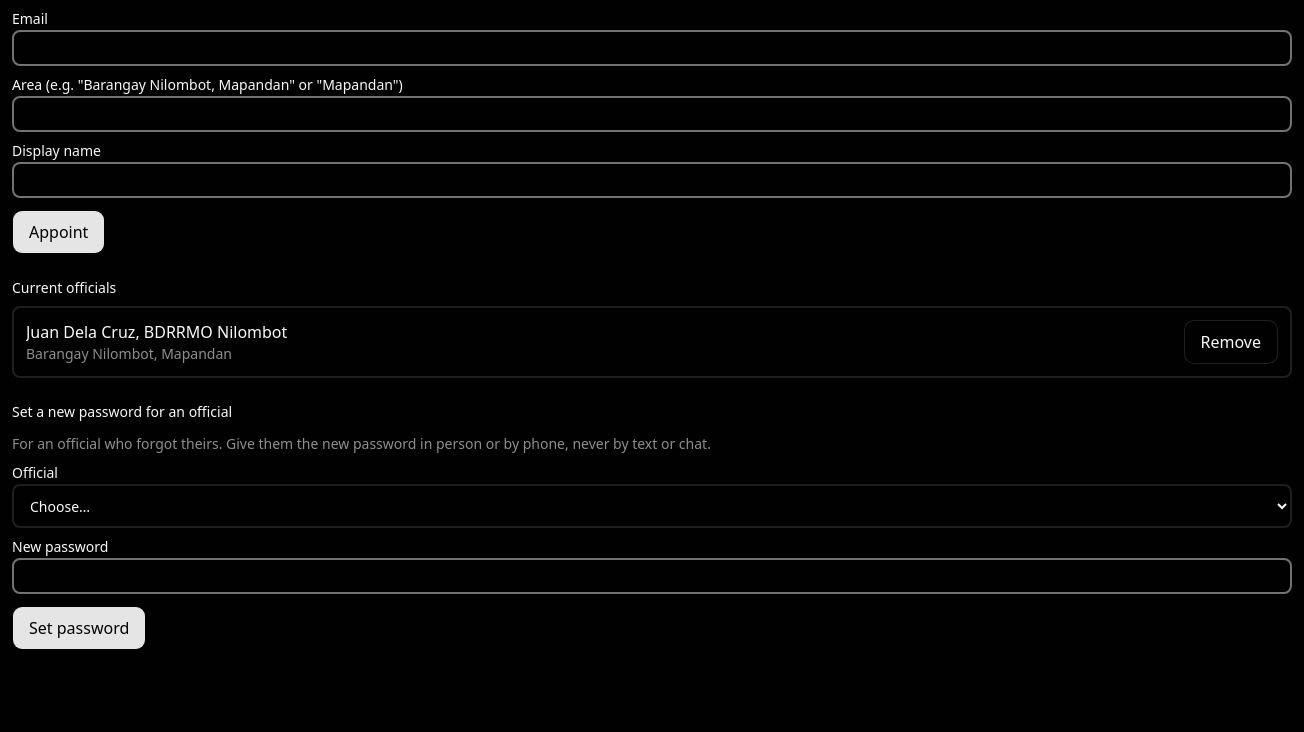
Scenario: OfficialsPanel › sets a new password for the chosen official, and says so
Select "Juan Dela Cruz, BDRRMO Nilombot — juan@example.com" in the dropdown labelled "Official": (652, 506) [12,484,1292,528]
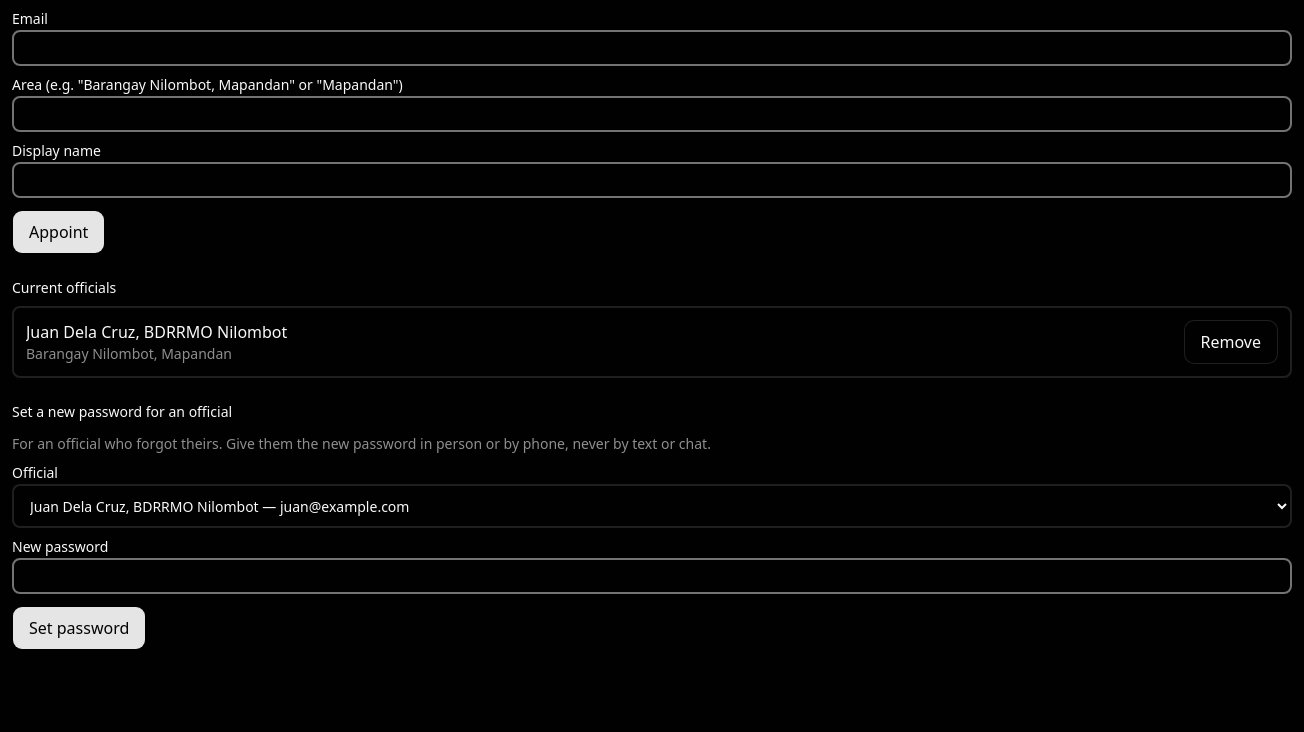
In the password field labelled "New password": (652, 576) [12,558,1292,594], type "newpass123"
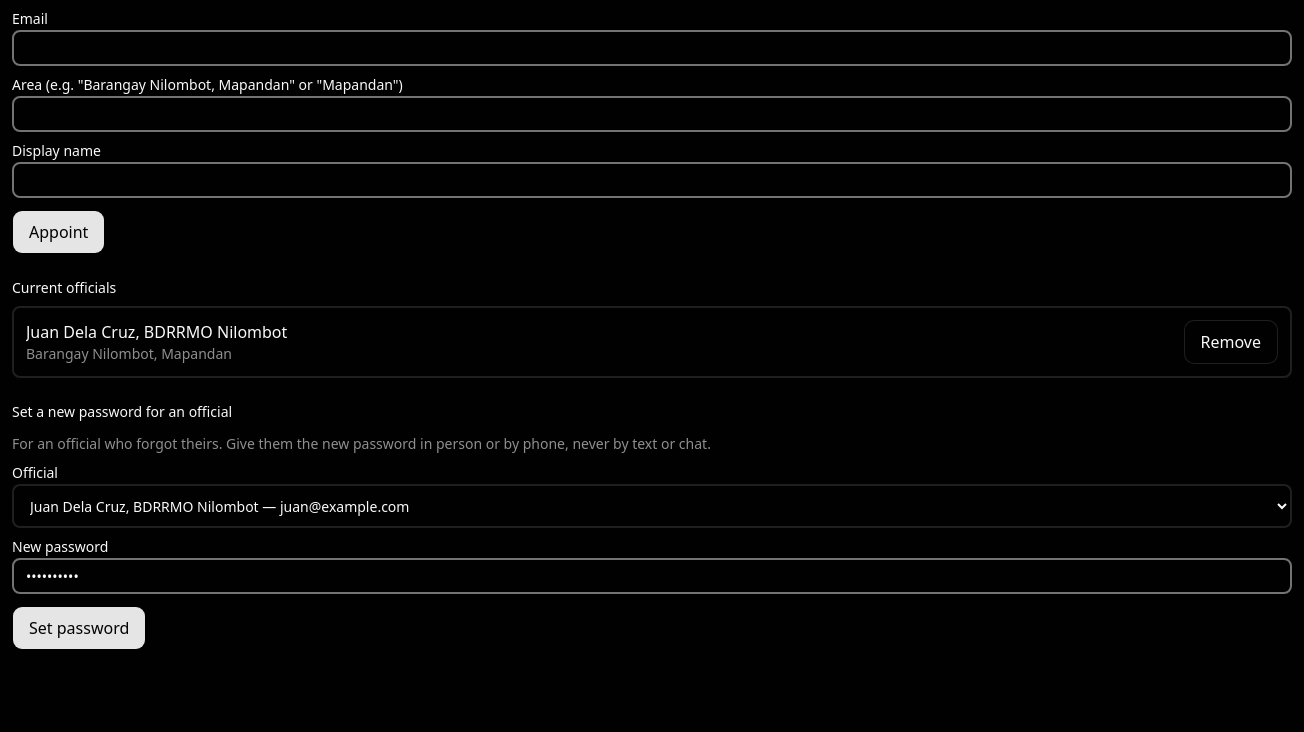
Click the button "Set password": click(79, 628) [12,606,146,650]
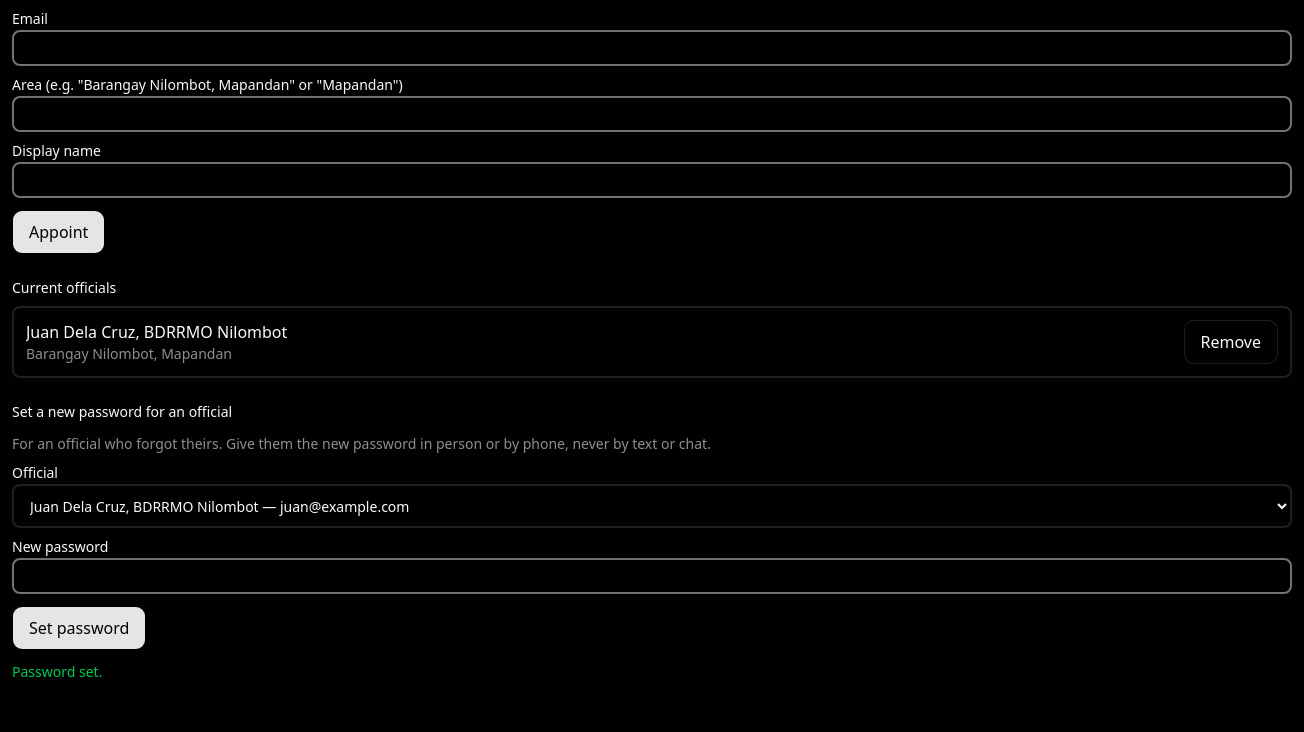
Expected: the text "Password set." is shown, [12,662,102,681]
